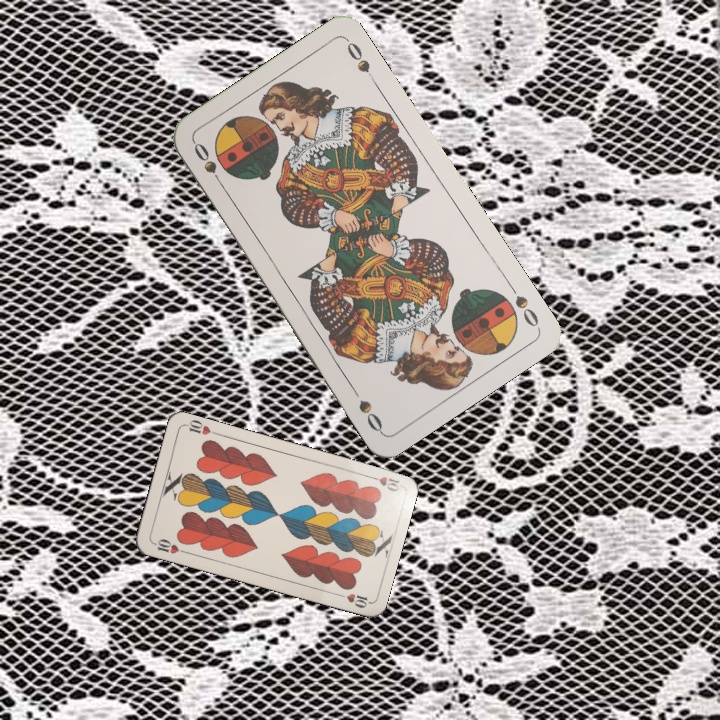H10: (363, 471, 402, 494), (149, 535, 189, 556)
SO: (189, 138, 228, 191), (504, 278, 542, 330)
